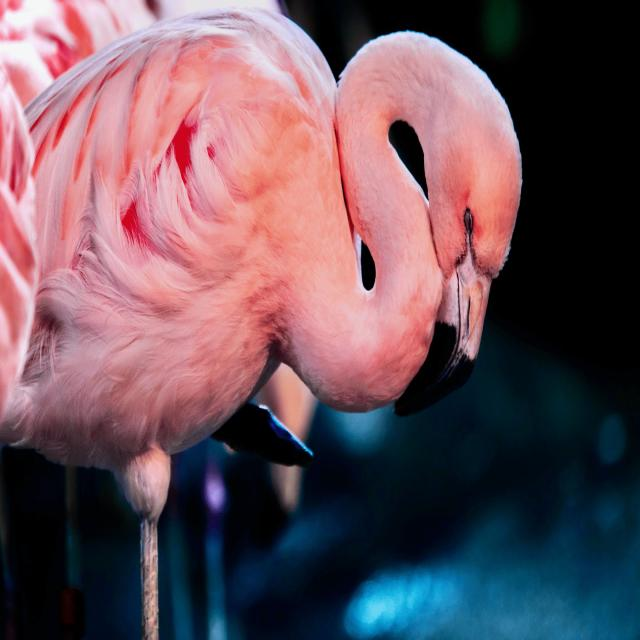Flamingo: (0, 16, 527, 638)
